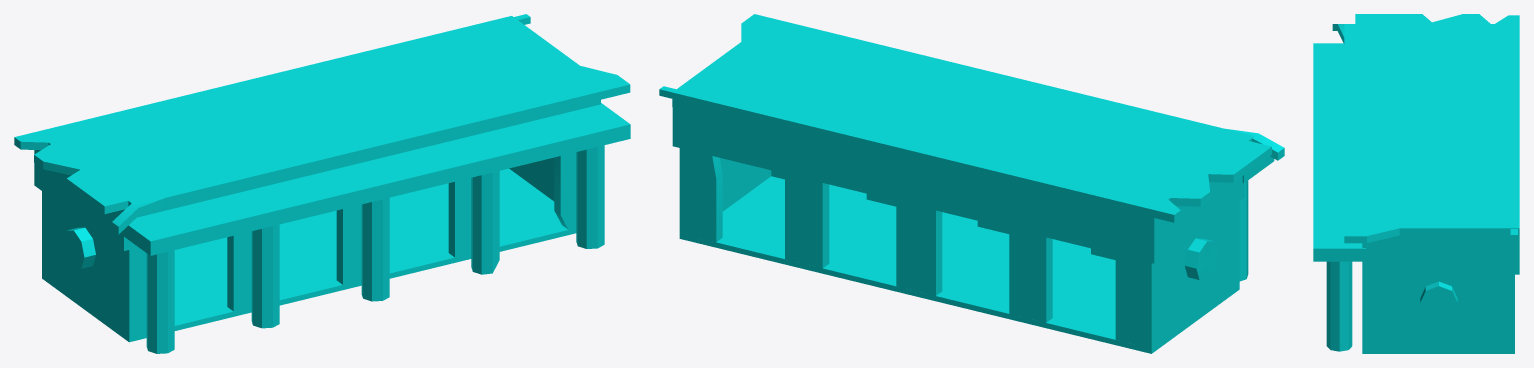
Rendered from SM_Bld_Garage_03_Collision.fbx.
The picture shows the model from 3 angles, left to right: view 1: azimuth 30°, elevation 25°; view 2: azimuth 150°, elevation 25°; view 3: azimuth 270°, elevation 25°; orthographic projection. The views are drawn at different scales.
Visible parts, largest first — view 1: SM_Bld_Garage_03_Collision; view 2: SM_Bld_Garage_03_Collision; view 3: SM_Bld_Garage_03_Collision.
Part boxes in pixels (x1=…): SM_Bld_Garage_03_Collision: x1=14, y1=14, x2=630, y2=353; SM_Bld_Garage_03_Collision: x1=659, y1=14, x2=1284, y2=353; SM_Bld_Garage_03_Collision: x1=1313, y1=14, x2=1519, y2=353.
Bounding box in the file's own units: 3068 × 827 × 1203.
